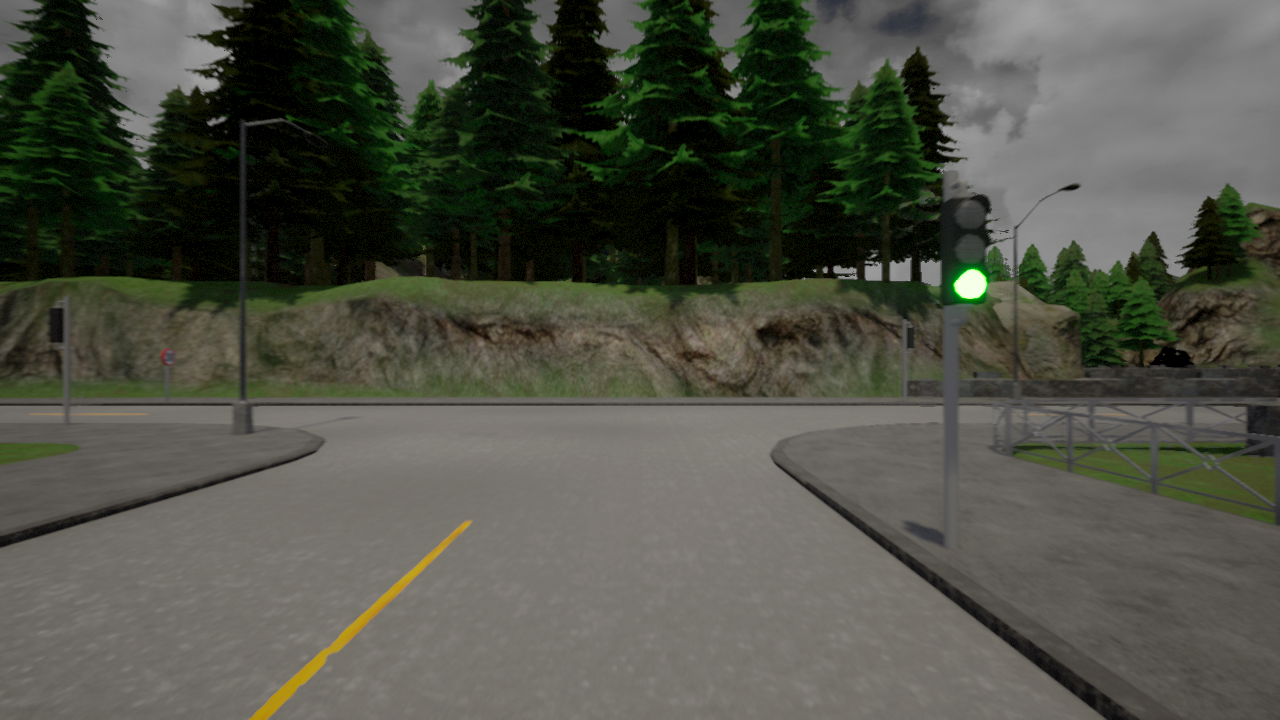green: (942, 194, 993, 312)
